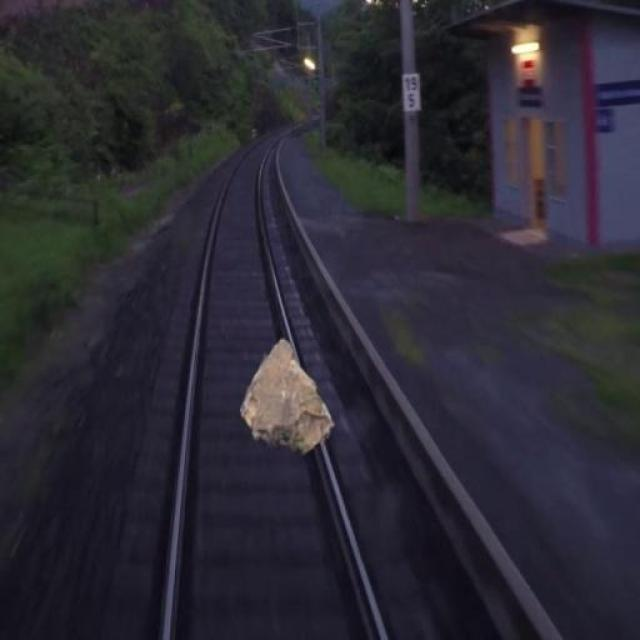Stone: (240, 339, 339, 454)
